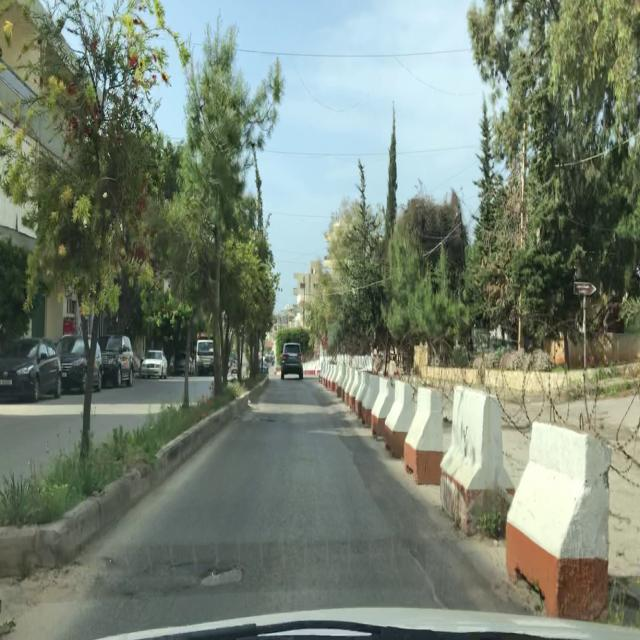Pothole: (193, 554, 248, 597), (258, 415, 278, 424)
